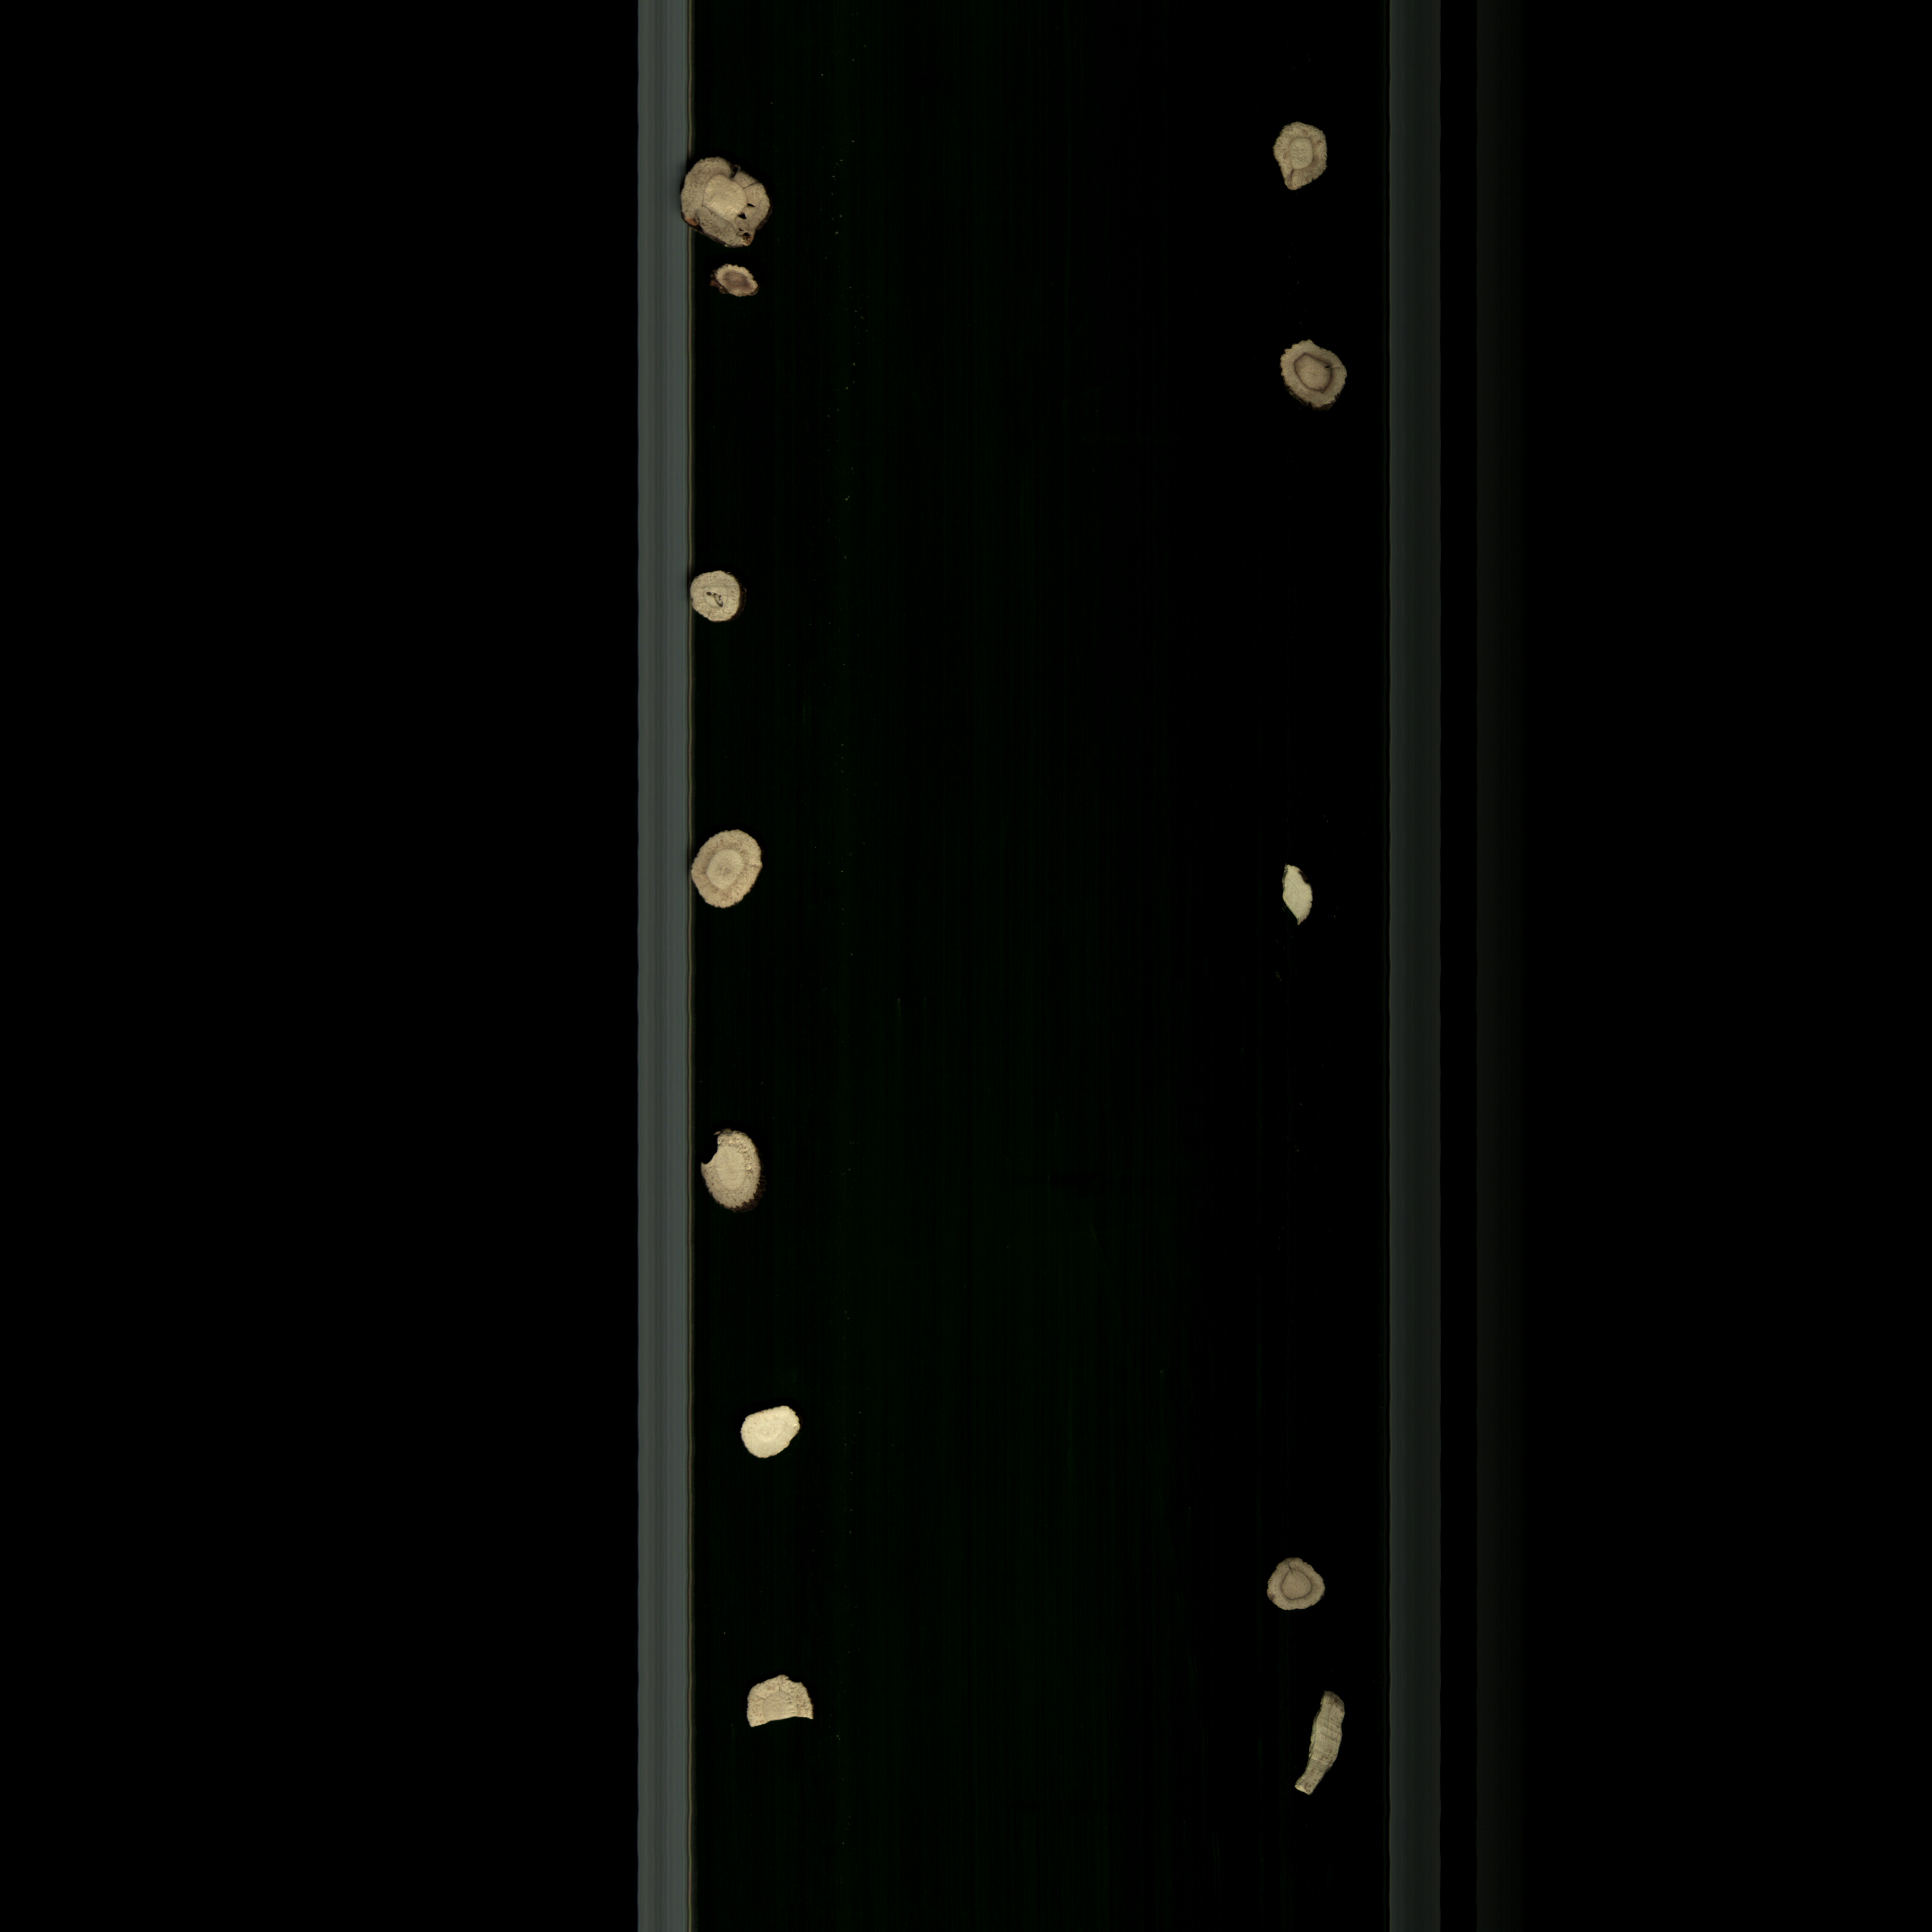debris: (695, 1122, 771, 1221), (741, 1663, 824, 1743), (736, 1405, 807, 1468), (1274, 856, 1323, 934)
distortion: (1292, 1690, 1353, 1799)
hole: (678, 563, 757, 633)
moldy: (674, 149, 782, 249), (1270, 329, 1353, 425), (683, 821, 766, 913), (1261, 115, 1339, 200), (1251, 1552, 1336, 1629), (708, 257, 764, 301)
